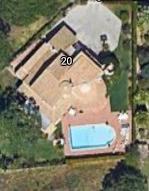pool: (69, 122, 116, 150)
